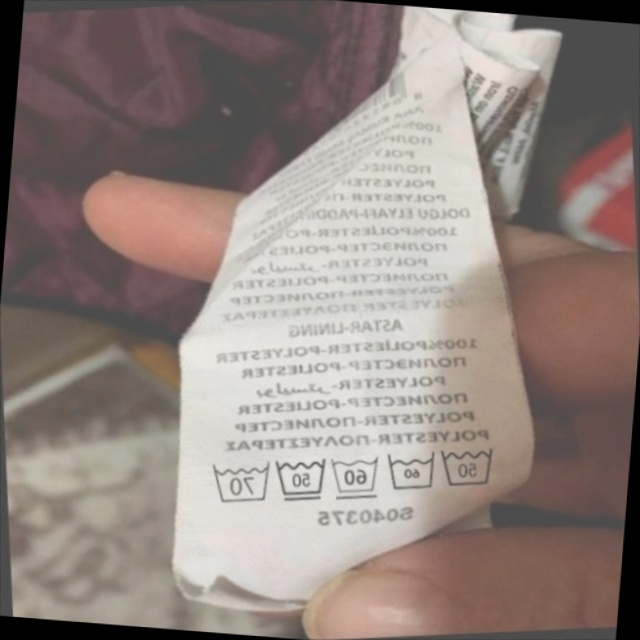50C: (430, 432, 506, 499), (266, 447, 335, 511)
60C: (321, 445, 387, 507), (377, 441, 444, 502)
70C: (200, 451, 276, 513)
